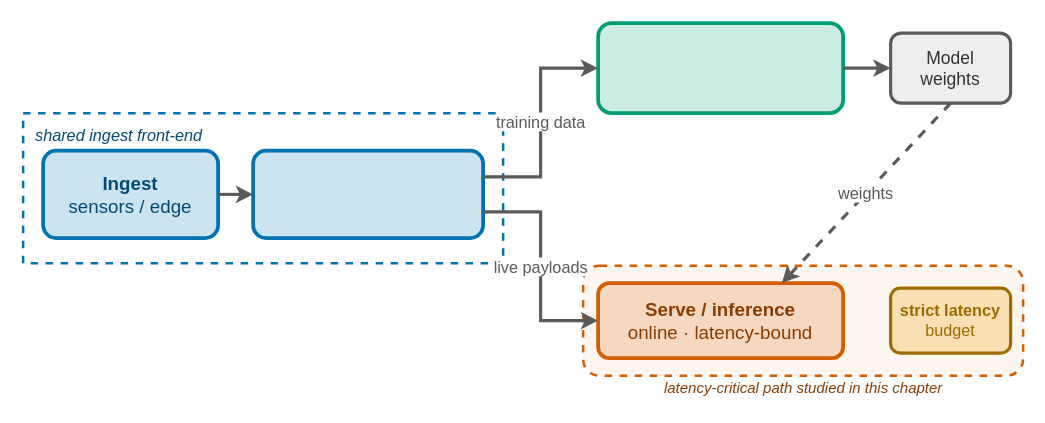
The diagram is 1045 pixels wide and 423 high, and some of its shapes have lost their labels. The shapes that lost their labels are listed below. From the top down, each one's box as (x1, y1, x2, y2) in pixels, then its label:
(596, 21, 844, 114): Train offline · throughput-bound days–weeks
(251, 148, 484, 239): Decode & preprocess raw signals → tensors
